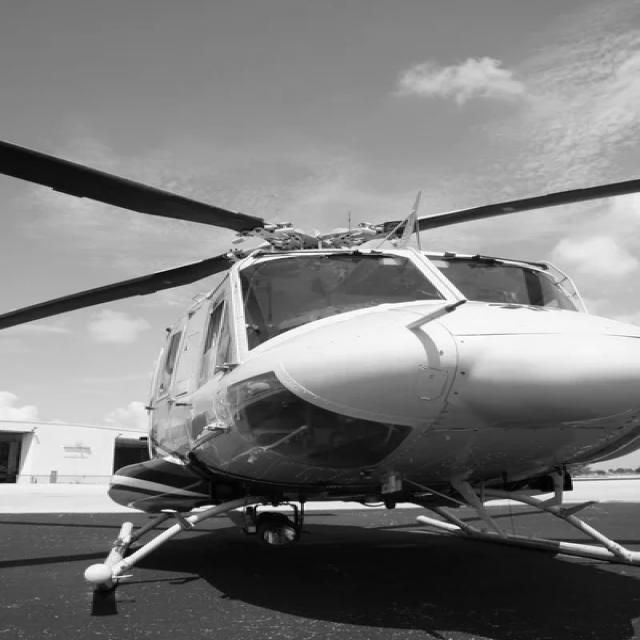Helicopter: (1, 143, 640, 590)
